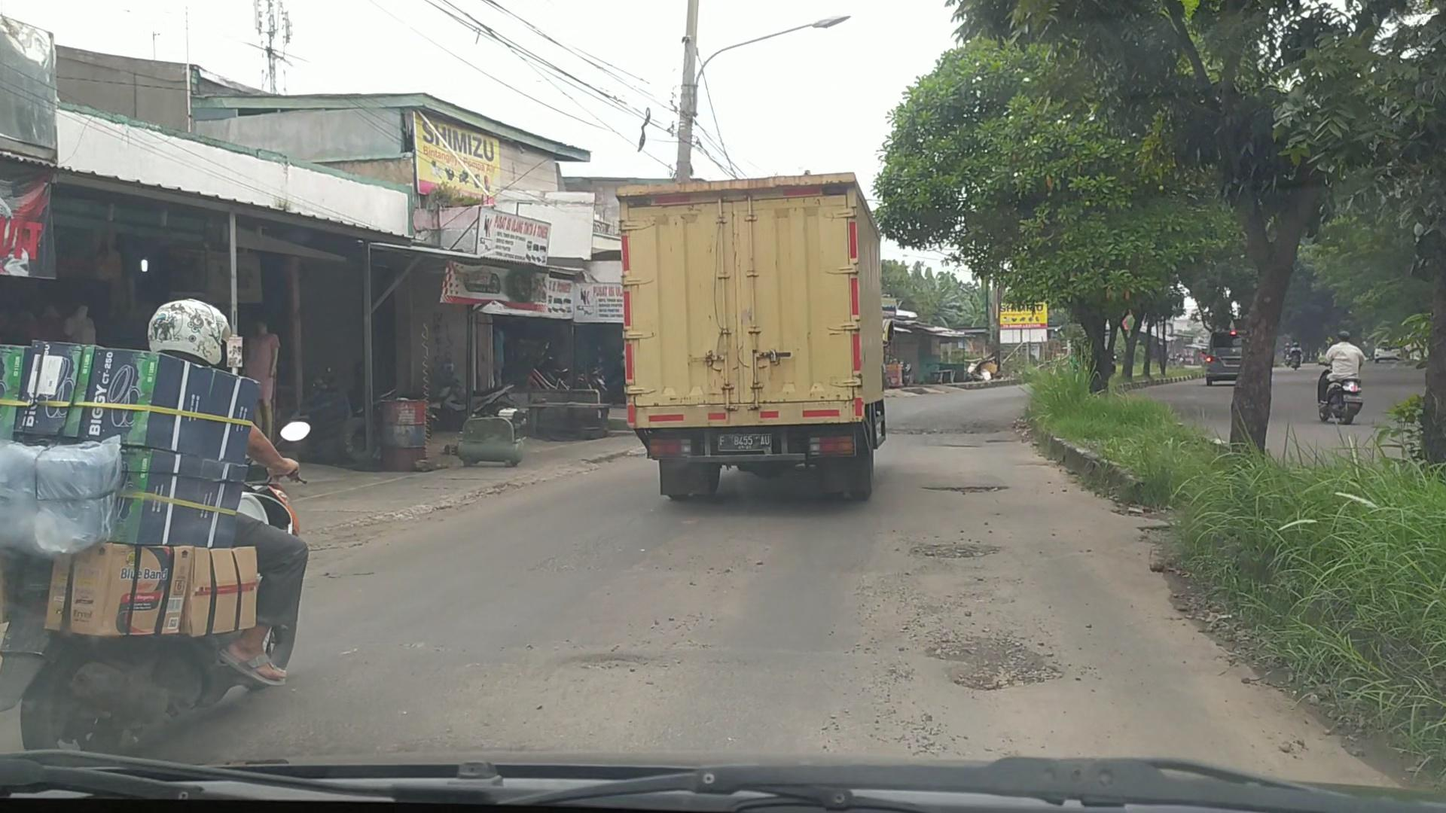pothole: (927, 634, 1064, 693), (910, 541, 1003, 561), (565, 653, 646, 675), (918, 485, 1011, 497)
